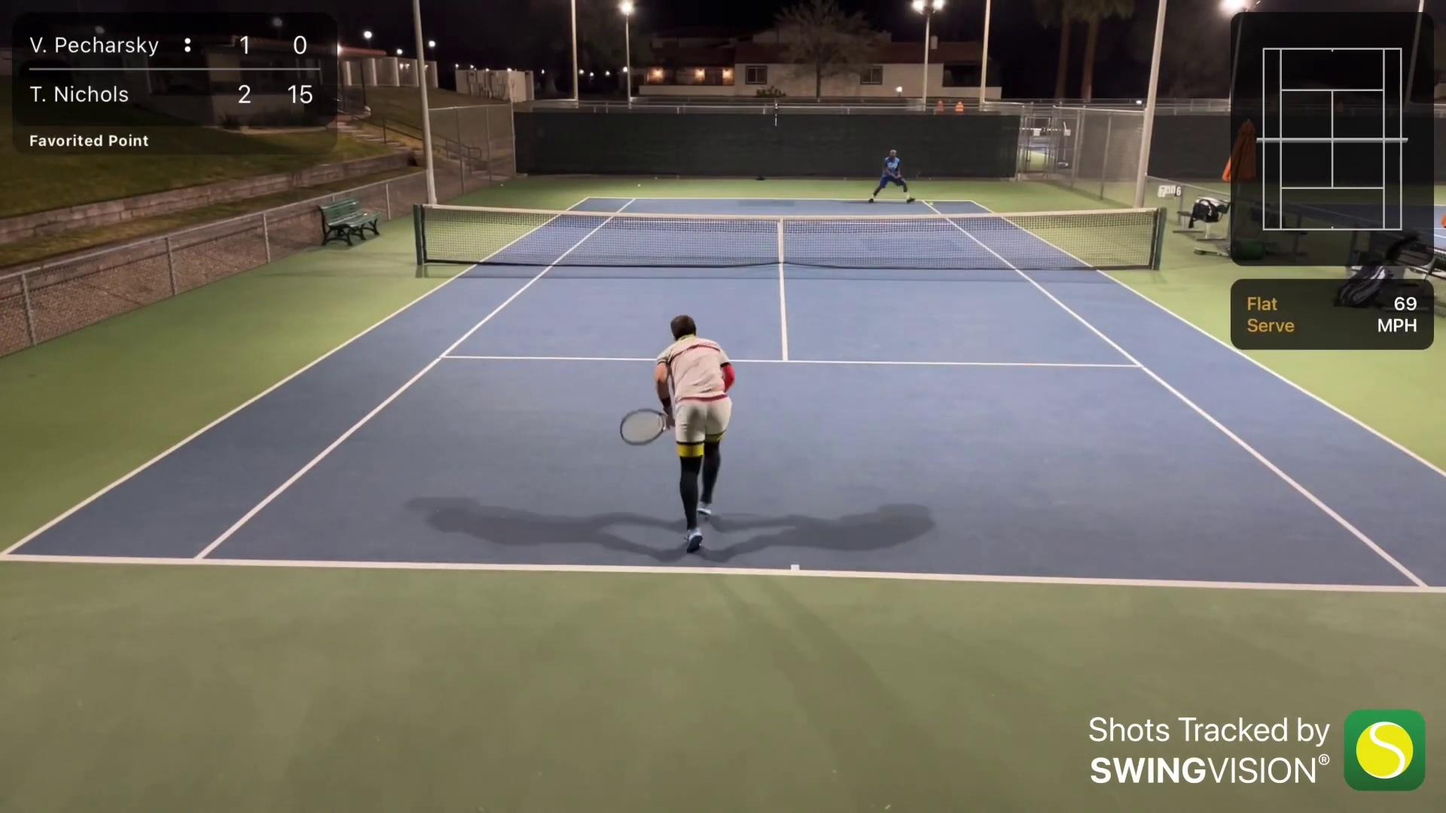ball: (928, 202, 935, 207)
